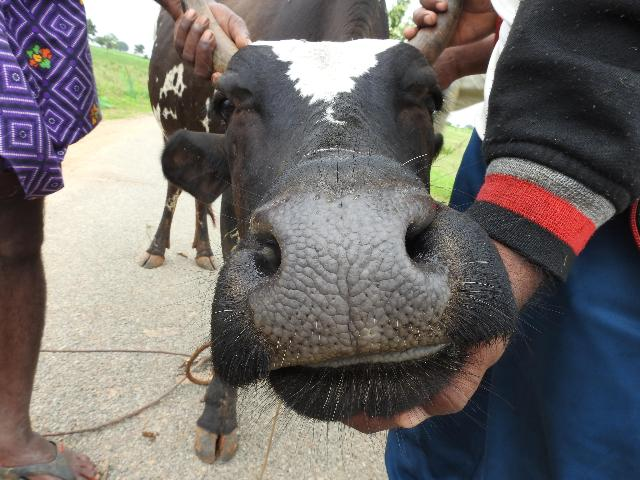Muzzle: (258, 203, 448, 350)
